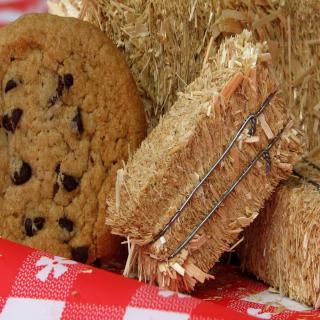Cookie: (0, 11, 148, 265)
